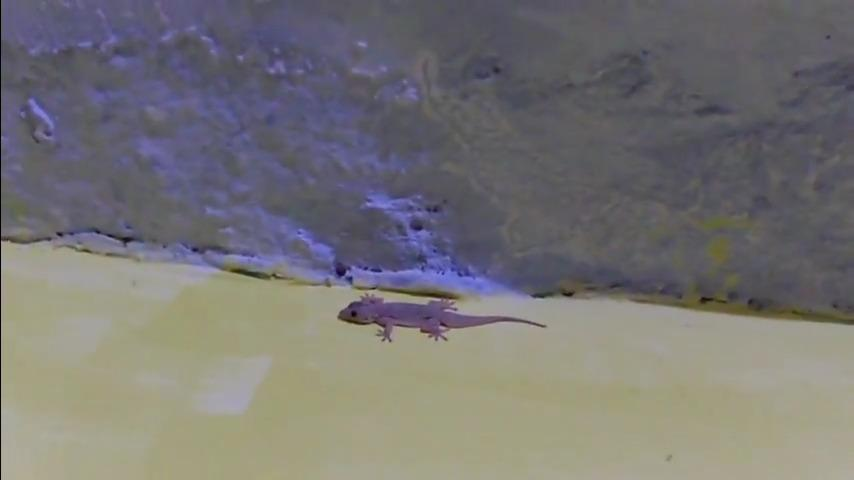lizard: (333, 290, 551, 346)
